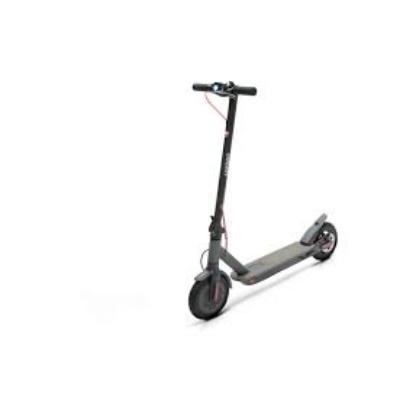bike: (187, 81, 338, 322)
